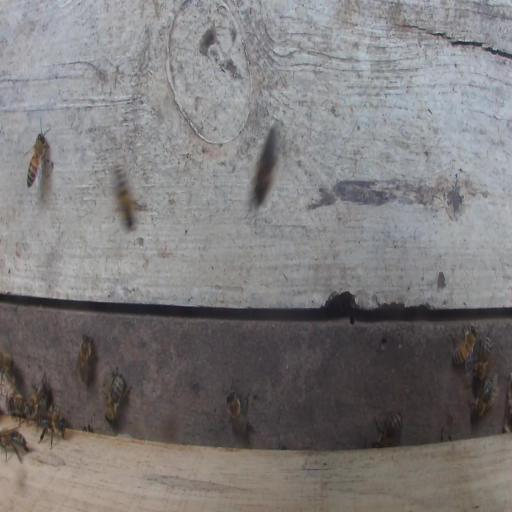bee: (252, 129, 276, 207), (113, 161, 139, 231), (36, 405, 66, 448), (26, 132, 46, 188), (452, 324, 478, 367), (226, 390, 246, 444), (0, 428, 29, 464), (374, 411, 402, 448), (474, 335, 494, 383), (104, 373, 123, 423), (472, 380, 493, 419), (79, 335, 92, 385), (24, 395, 46, 418), (10, 394, 27, 416), (1, 349, 13, 375), (37, 381, 49, 406)
